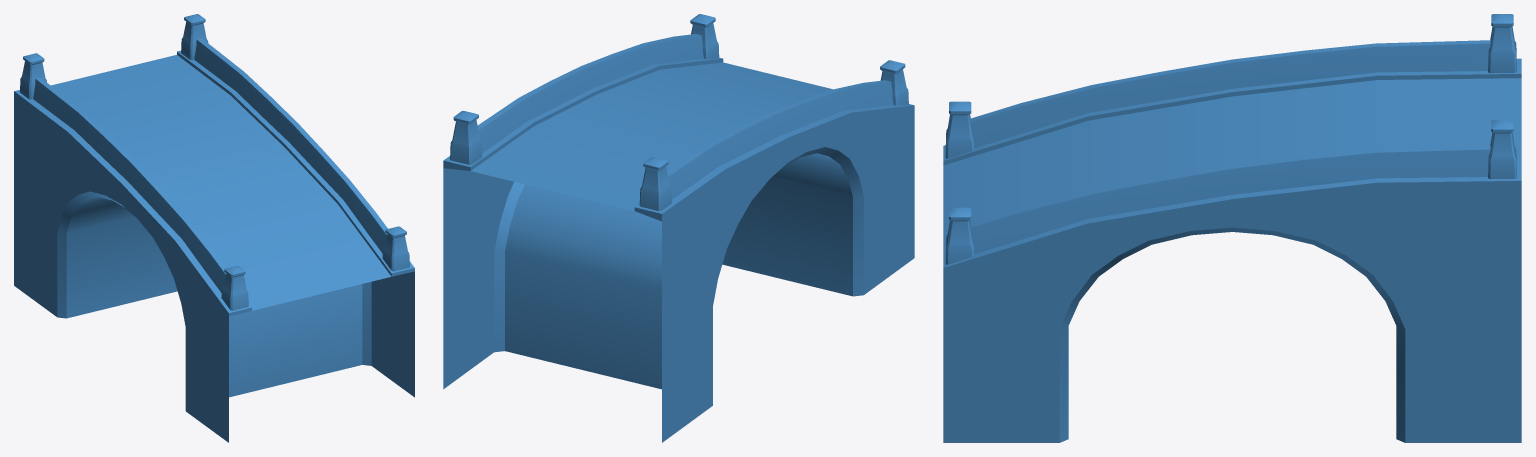
Rendered from Bridge_2x.fbx.
The picture shows the model from 3 angles, left to right: view 1: azimuth 30°, elevation 25°; view 2: azimuth 150°, elevation 25°; view 3: azimuth 270°, elevation 25°; orthographic projection. The views are drawn at different scales.
Visible parts, largest first — view 1: Bridge_2x; view 2: Bridge_2x; view 3: Bridge_2x.
Part boxes in pixels (x1,y1,x2,y2): Bridge_2x: [14, 14, 414, 442]; Bridge_2x: [443, 14, 914, 442]; Bridge_2x: [943, 14, 1521, 442].
Size of the model in its own units: 900 by 1080 by 1800.
